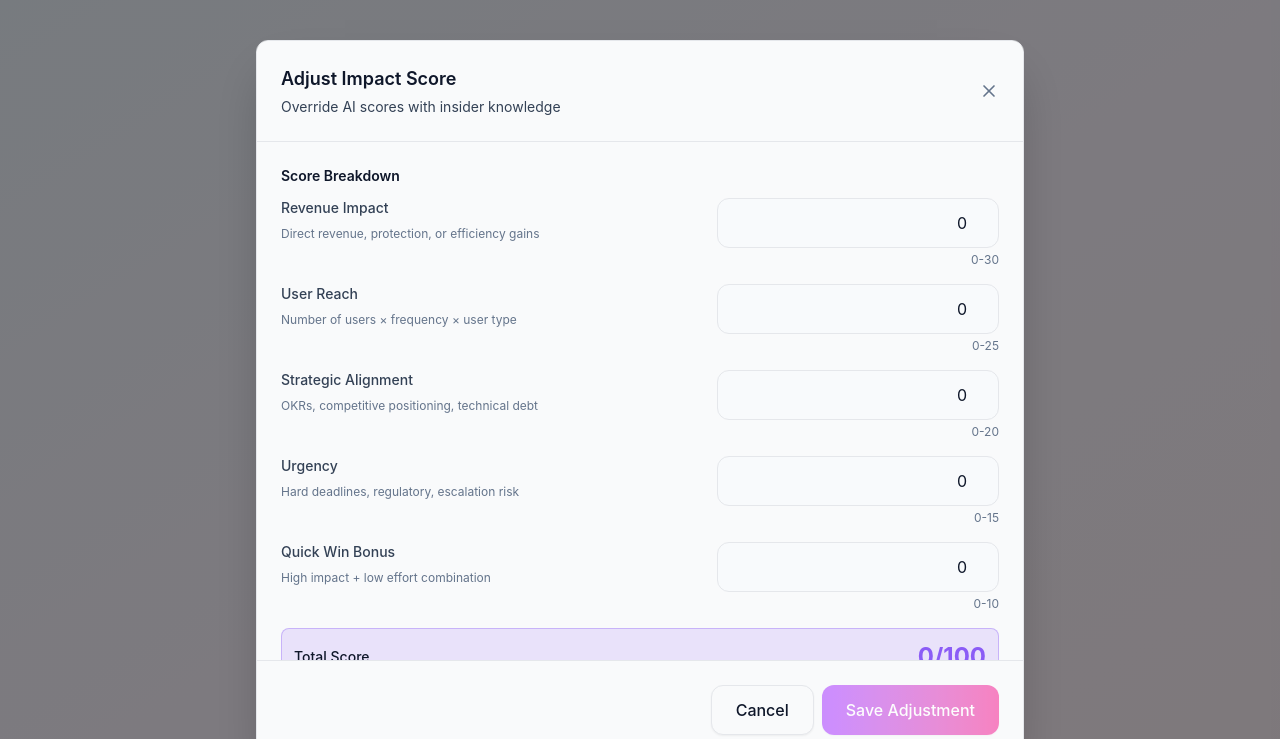
Test case: ImpactAdjustmentModal › Edge Cases › should handle decimal scores correctly
Replace the text in the number field in the row of "Revenue Impact" with "15.5" at (858, 223), box [717,198,999,248]
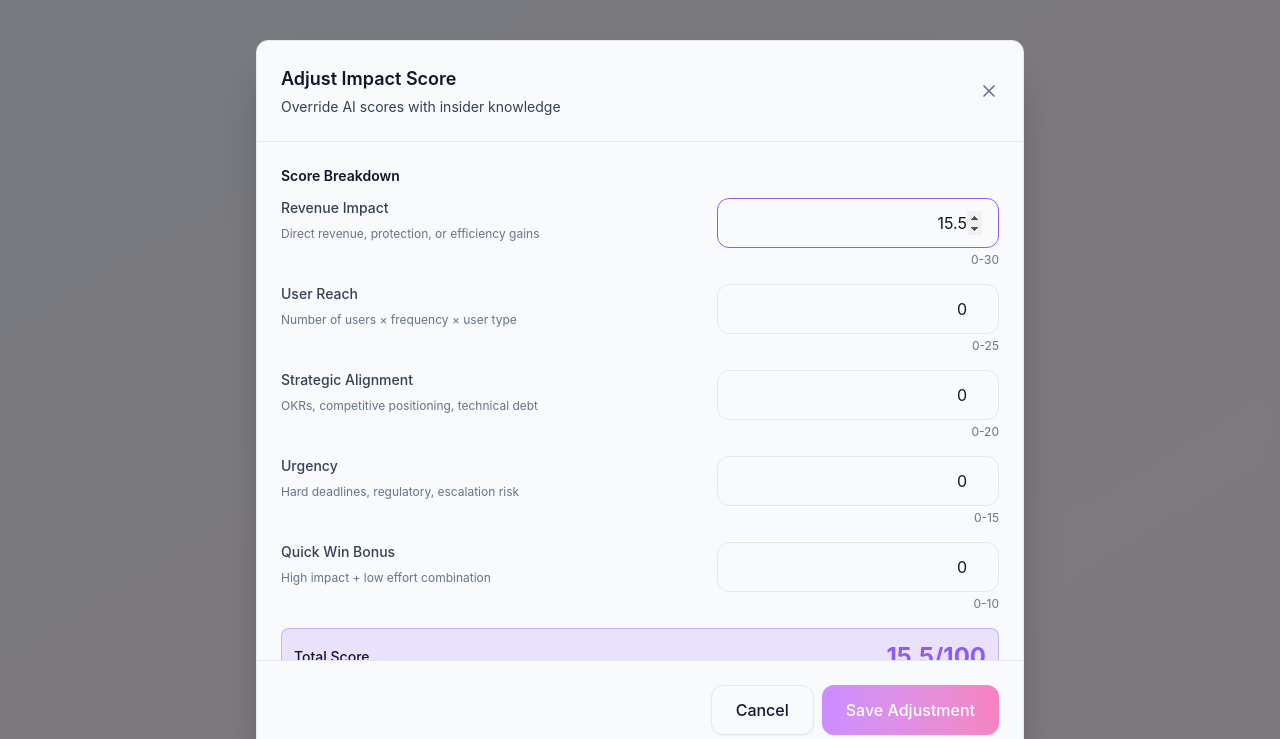
Replace the text in the number field in the row of "Number of users × frequency × user type" with "10.75" at (858, 309), box [717,284,999,334]
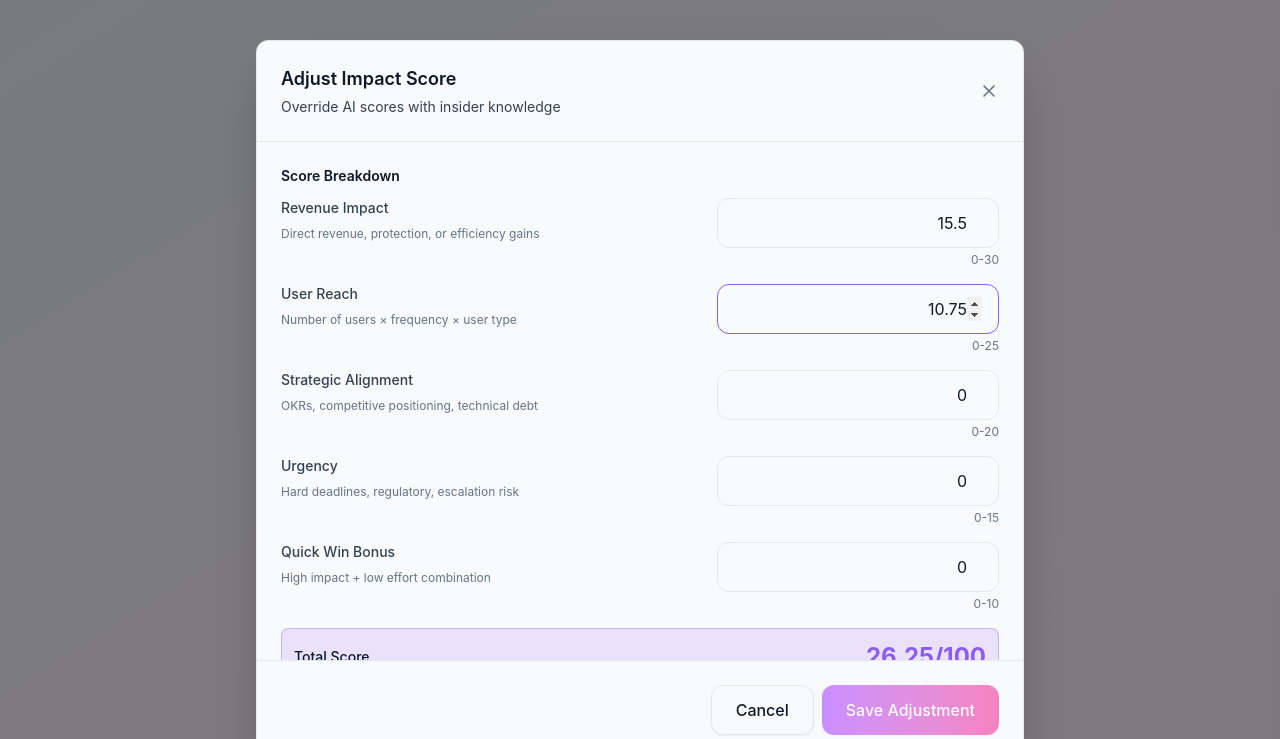
Check: the text "26.25/100" is shown, box [866,641,986,673]
